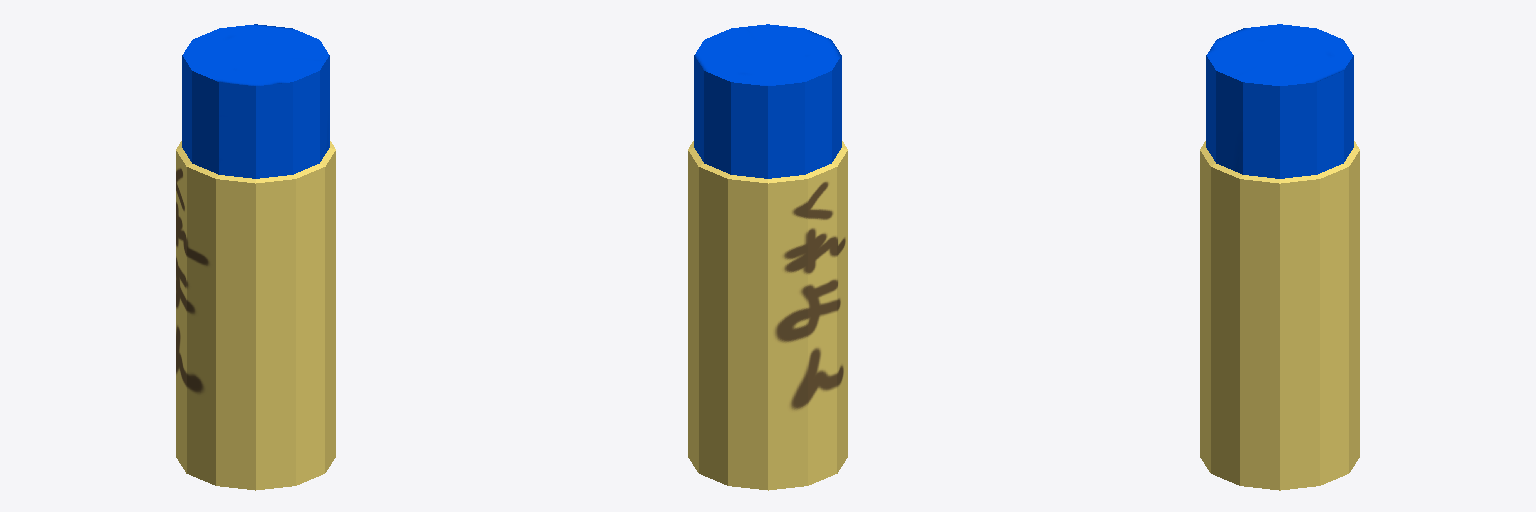
3 views of the same model, side by side, from view 1: azimuth 30°, elevation 25°; view 2: azimuth 150°, elevation 25°; view 3: azimuth 270°, elevation 25° (orthographic).
Visible parts, largest first — view 1: Crayons; view 2: Crayons; view 3: Crayons.
Boxes of the visible parts, <box> form: Crayons: <box>176,24,335,490</box>; Crayons: <box>688,24,847,490</box>; Crayons: <box>1200,24,1359,490</box>.
Size of the model in its own units: 0.4794 by 1.32 by 0.4788.
1 materials, 1 textured.